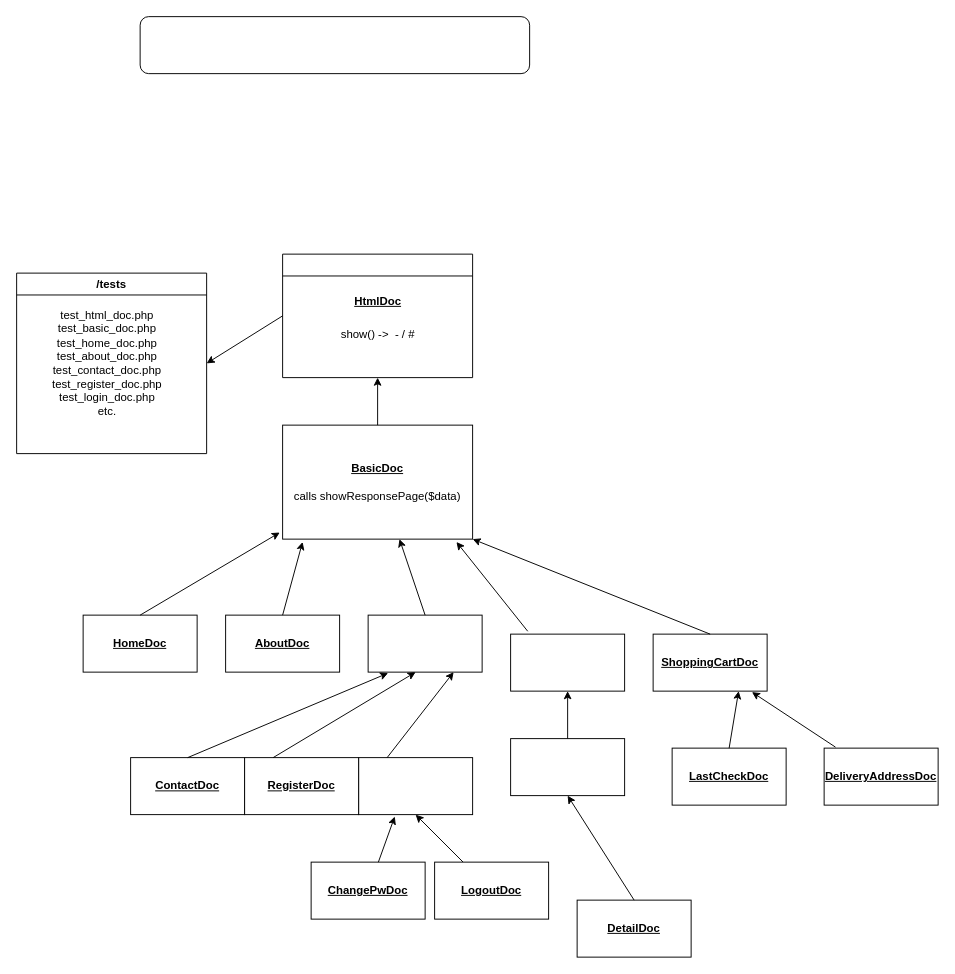
Some shapes in this 955 by 974 pixel diagram are drawn without their labels. The box of each missing label's shape, as (x1, y1, x2, y2) in pixels:
/views: (282, 253, 473, 378)
Class Inheritance Diagram: (139, 16, 530, 74)
FormsDoc: (367, 614, 482, 672)
LoginDoc: (358, 757, 473, 815)
ProductDoc: (510, 633, 625, 691)
WebshopDoc: (510, 738, 625, 796)
